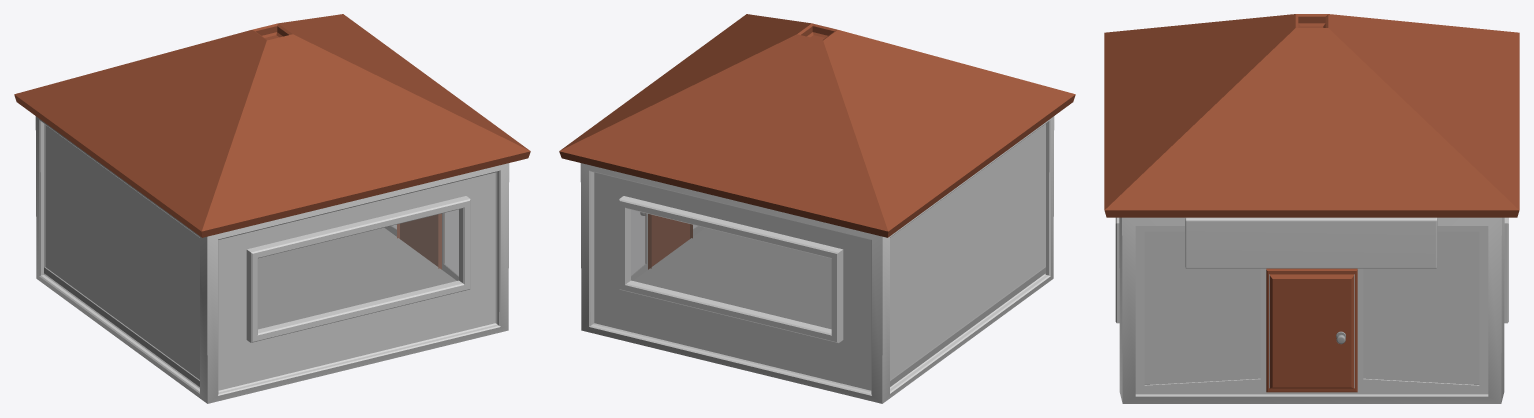
Rendered from food store.fbx.
The picture shows the model from 3 angles, left to right: view 1: azimuth 30°, elevation 25°; view 2: azimuth 150°, elevation 25°; view 3: azimuth 270°, elevation 25°; orthographic projection. The views are drawn at different scales.
Visible parts, largest first — view 1: pCube10; view 2: pCube10; view 3: pCube10.
Part boxes in pixels (x1,y1,x2,y2): pCube10: (14, 14, 530, 403); pCube10: (559, 14, 1075, 403); pCube10: (1104, 14, 1519, 403).
Size of the model in its own units: 738 by 585 by 729.
